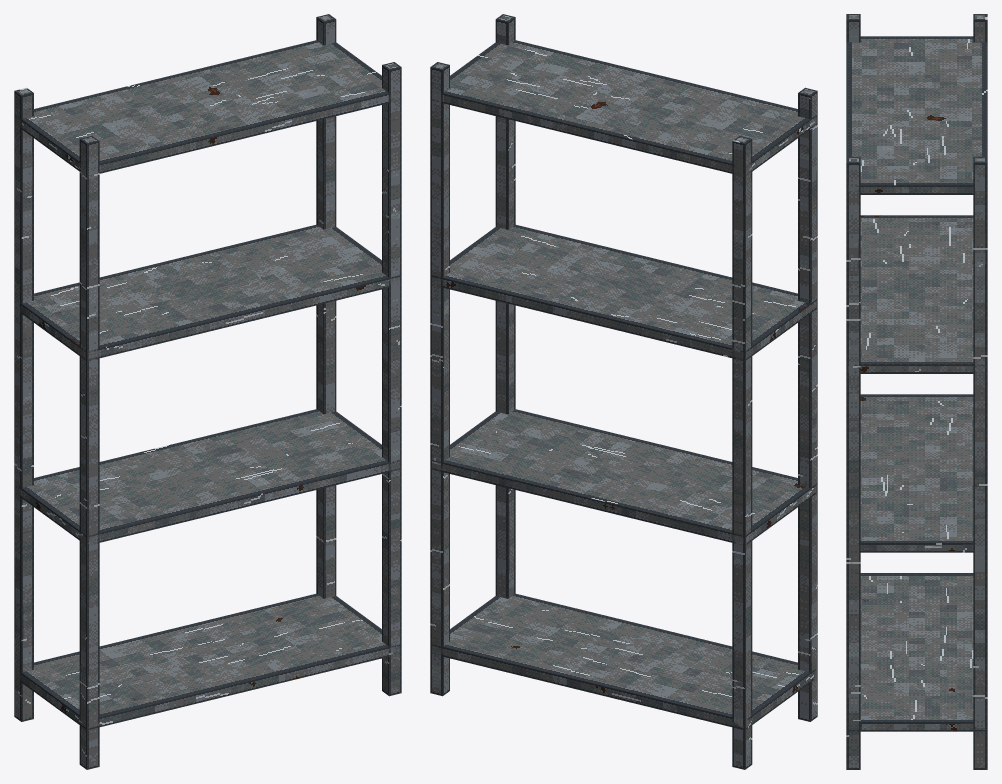
File: SM_Shelf_Steel_01.glb
3 views of the same model, side by side, from view 1: azimuth 30°, elevation 25°; view 2: azimuth 150°, elevation 25°; view 3: azimuth 270°, elevation 25° (orthographic). The views are drawn at different scales.
Visible parts, largest first — view 1: SM_Shelf_Steel_01; view 2: SM_Shelf_Steel_01; view 3: SM_Shelf_Steel_01.
Boxes of the visible parts, x1,y1,x2,y2 form: SM_Shelf_Steel_01: (14, 14, 401, 769); SM_Shelf_Steel_01: (430, 14, 817, 769); SM_Shelf_Steel_01: (846, 14, 987, 769).
Size of the model in its own units: 1 by 1.9 by 0.4.
Materials: 1 (1 with a texture image).
